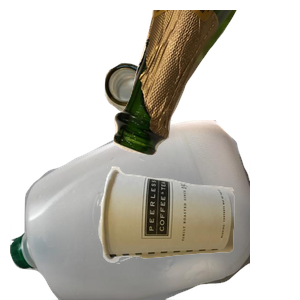glass: (111, 10, 300, 158)
metal: (102, 60, 252, 169)
plastic: (10, 120, 250, 300)
trash: (95, 164, 300, 300)
